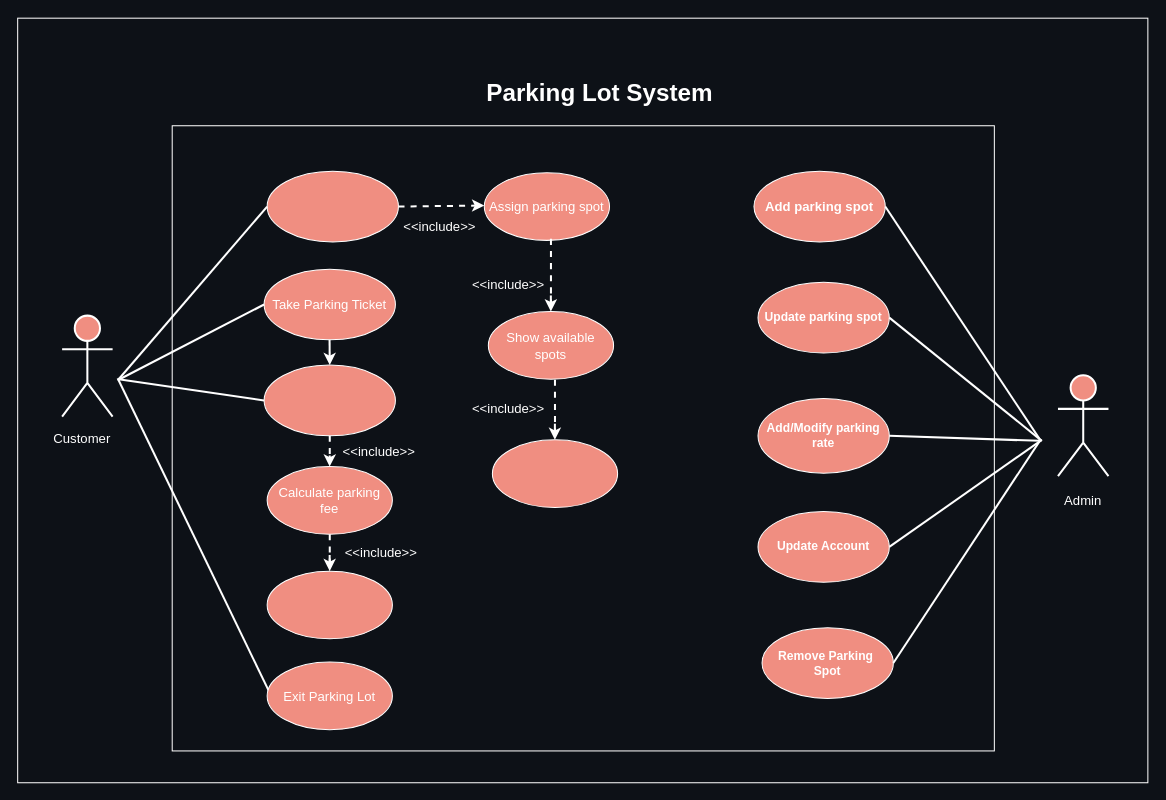
Some shapes in this 1166 by 800 pixel diagram are drawn without their labels. The shapes that lost their labels are listed below. From the top down, each one's box as (x1, y1, x2, y2) in pixels, then its label:
(266, 170, 398, 242): Enter Parking Lot
(263, 364, 395, 436): Generate Parking Ticket
(491, 439, 618, 508): Show full
(266, 570, 392, 639): Confirmation
